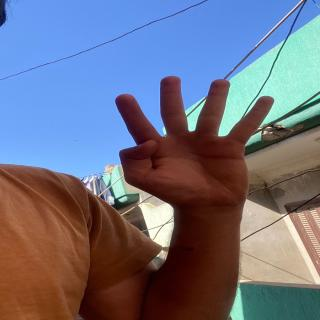SHEEN: (108, 64, 290, 206)
